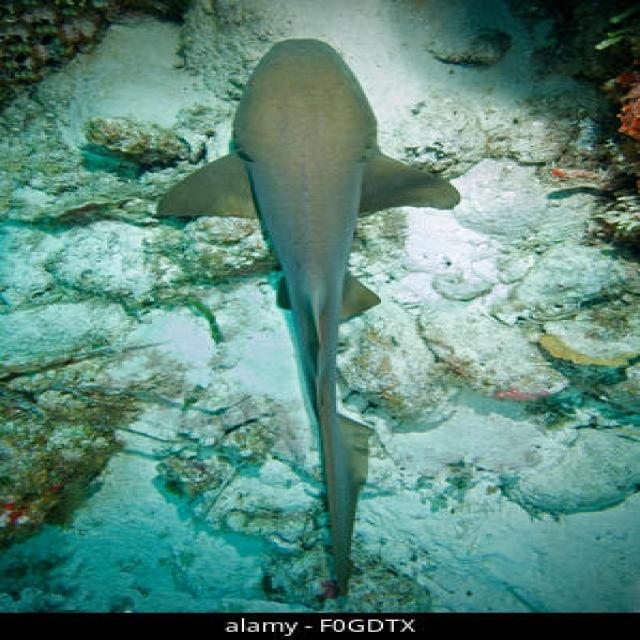Shark: (152, 22, 505, 600)
